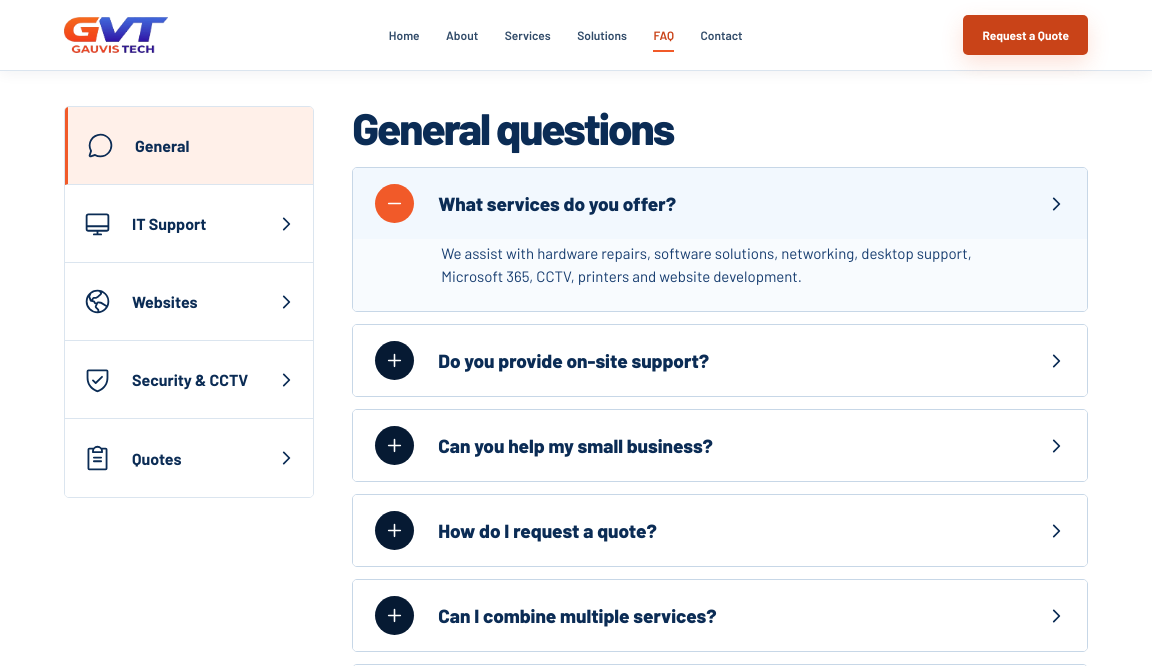
FAQ route › toggles FAQ answers with an accessible accordion button
The image size is (1152, 666).
(page scrolled)
Click the button "Do you provide on-site support?". click: [395, 360]
box: [353, 325, 1087, 396]
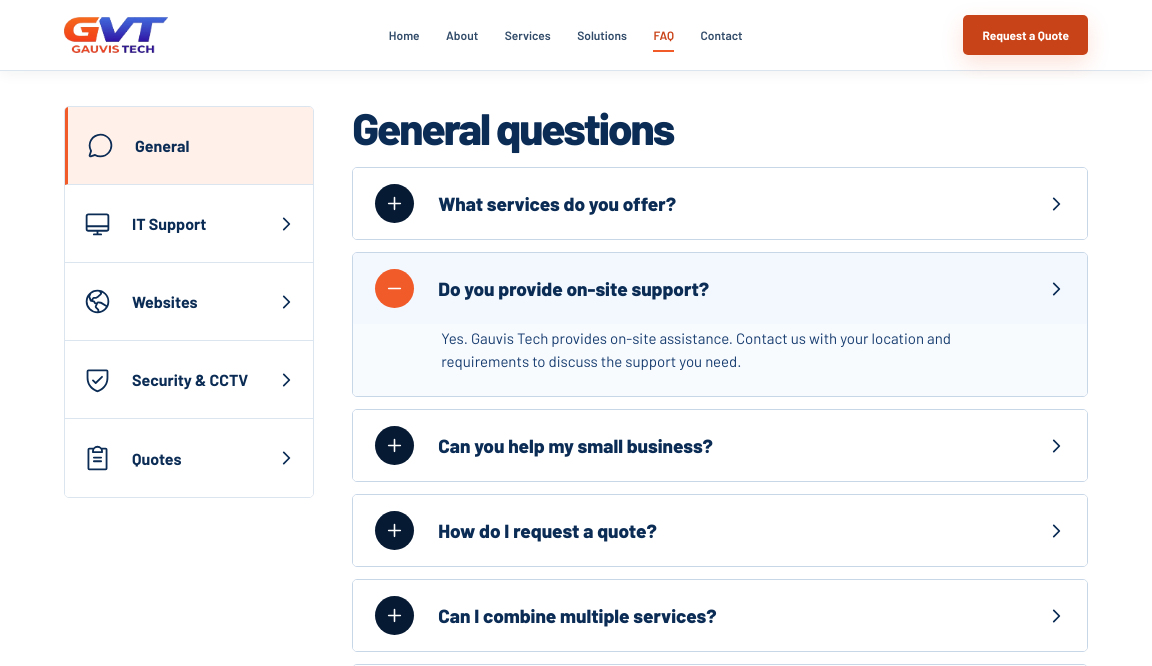
Expected: the button "Do you provide on-site support?" is expanded, [353, 253, 1087, 324]
Expected: the text "Gauvis Tech provides on-site assistance" is shown, [441, 329, 951, 370]
